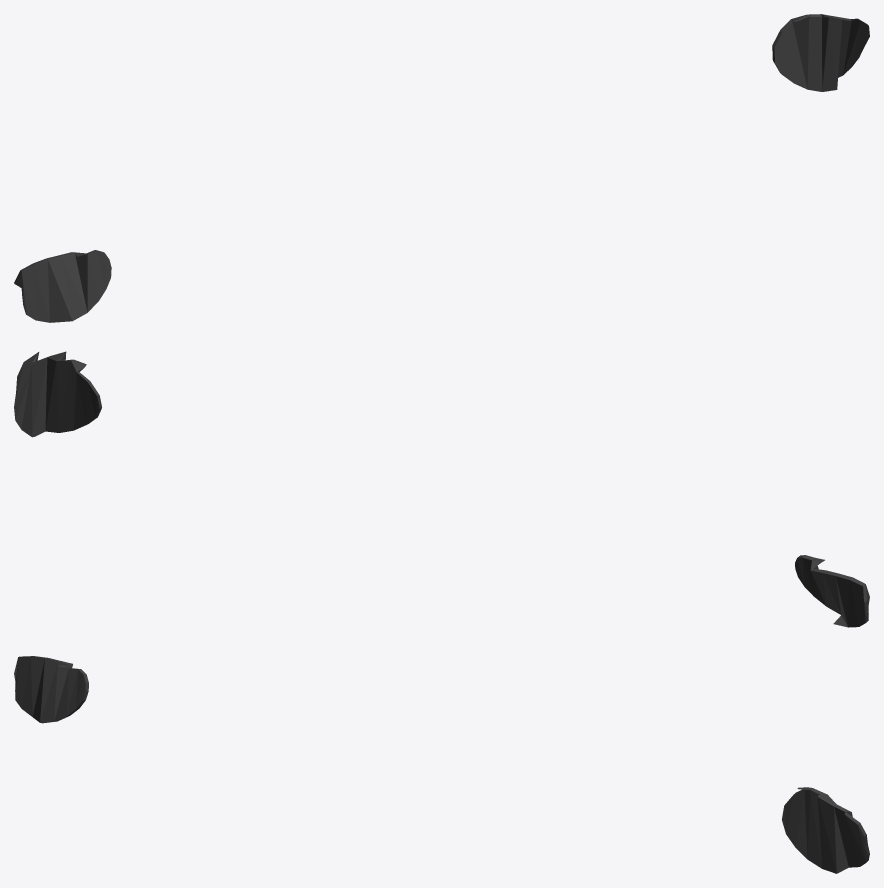
The model's file is c1_alar_foramen.glb.
The picture shows the model from 3 angles, top to bottom: view 1: azimuth 30°, elevation 25°; view 2: azimuth 150°, elevation 25°; view 3: azimuth 330°, elevation 25°; orthographic projection. The views are drawn at different scales.
Parts seen in each view (by area): view 1: c1_alar_foramen; view 2: c1_alar_foramen; view 3: c1_alar_foramen.
Boxes of the visible parts, x1,y1,x2,y2 form: c1_alar_foramen: [14, 14, 869, 322]; c1_alar_foramen: [14, 351, 869, 627]; c1_alar_foramen: [14, 656, 869, 873].
Bounding box in the file's own units: 45.76 × 5.15 × 3.8.
1 material, 1 textured.
